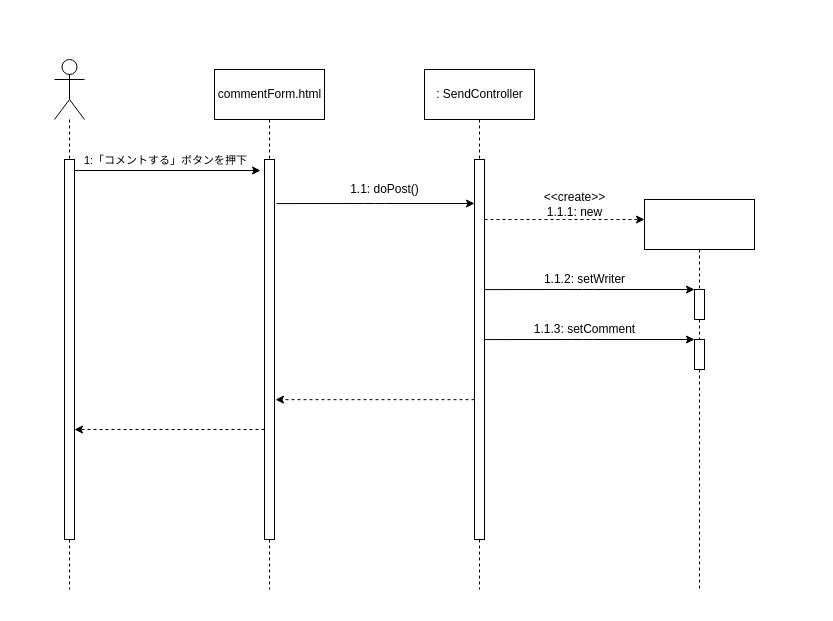
This 833x621 diagram has some shape labels left out. Here are the shapes that lost their labels. From the top down, the box of each, then its label:
(54, 58, 84, 120): ：ユーザ
(644, 198, 754, 250): : CommentModel
